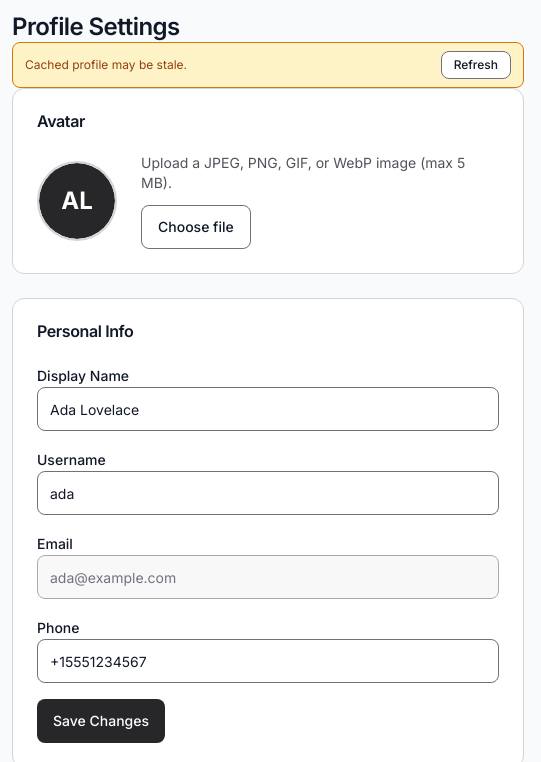
it: ProfilePage › saves profile changes
This screenshot has width=541, height=762.
Replace the text in the field labelled "Display Name" with "Ada L." at [268, 409], box top-left (37, 387), bottom-right (499, 431)
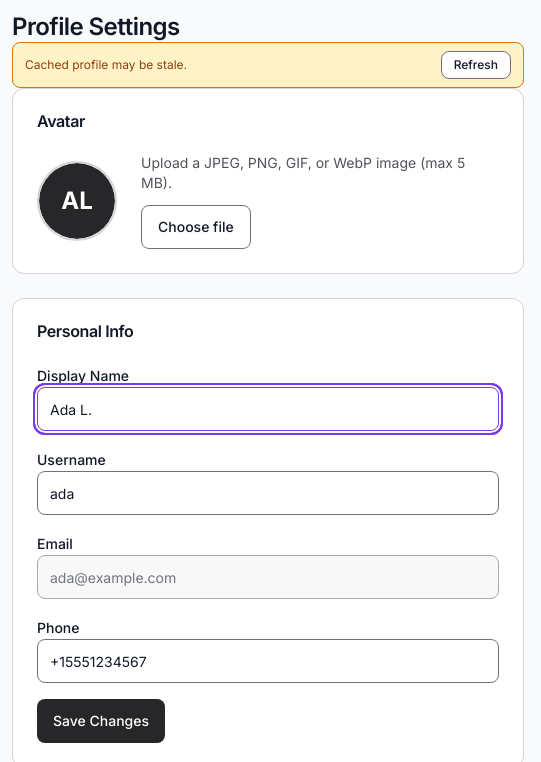
Click the button "Save Changes" at [101, 721], box top-left (37, 699), bottom-right (165, 743)
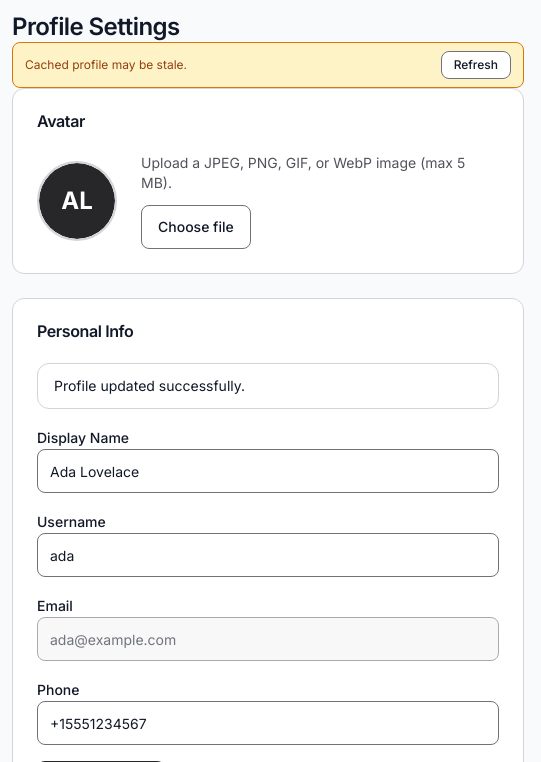
Now the text "Profile updated successfully." is shown, box top-left (54, 377), bottom-right (245, 394)
